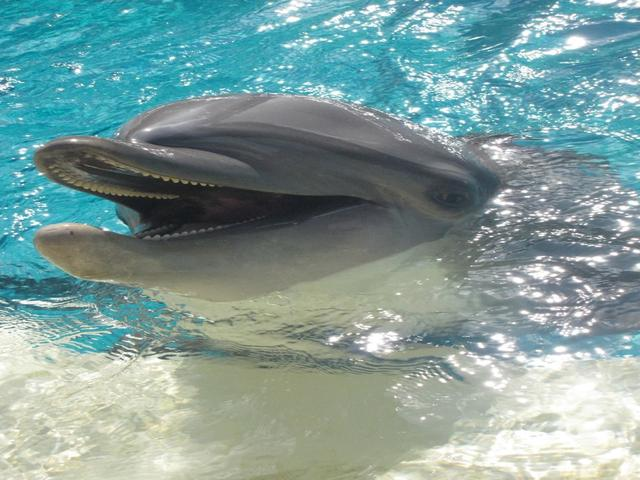dolphin: (20, 56, 638, 342)
